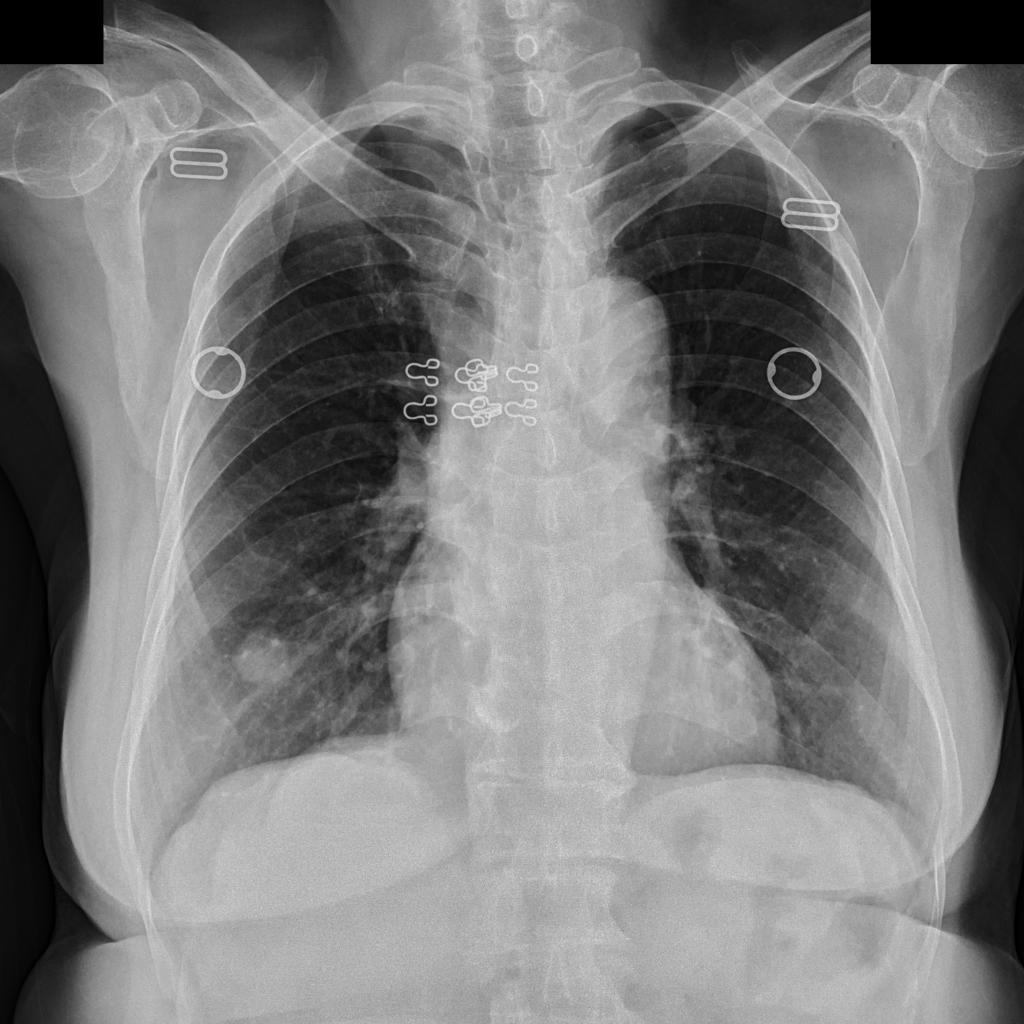Nodule: (233, 630, 288, 679)
